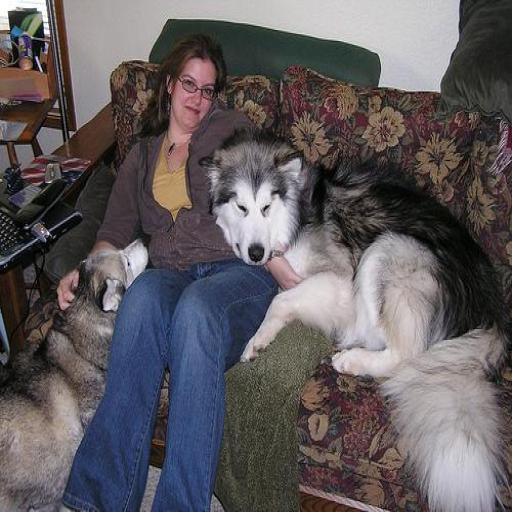dog_face: (210, 143, 313, 267)
